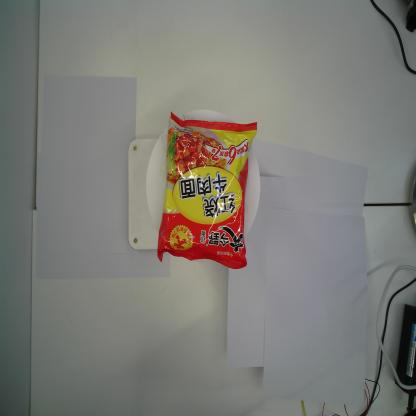Instant Noodles: (155, 109, 259, 271)
